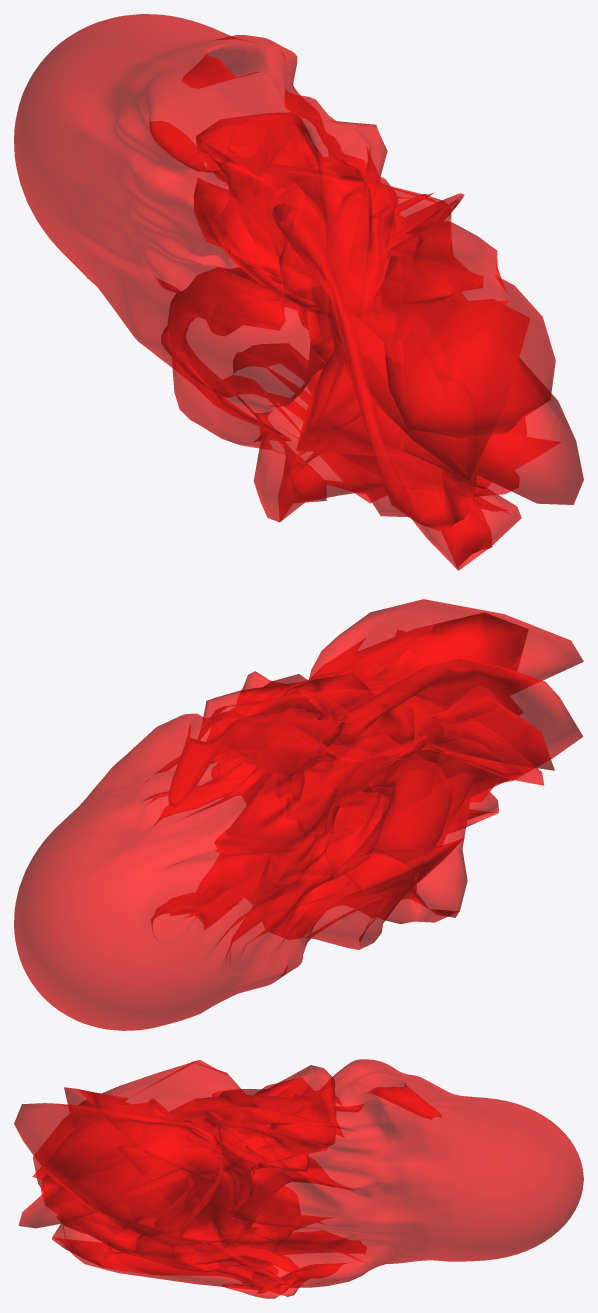
Rendered from BouleDeFeu.fbx.
The picture shows the model from 3 angles, top to bottom: view 1: azimuth 30°, elevation 25°; view 2: azimuth 150°, elevation 25°; view 3: azimuth 270°, elevation 25°; orthographic projection. The views are drawn at different scales.
Parts seen in each view (by area): view 1: Sphere001; view 2: Sphere001; view 3: Sphere001.
Boxes of the visible parts, x1=… form: Sphere001: x1=14, y1=14, x2=583, y2=570; Sphere001: x1=14, y1=599, x2=583, y2=1030; Sphere001: x1=14, y1=1059, x2=583, y2=1298.
Bounding box in the file's own units: 68.57 × 71.22 × 192.
